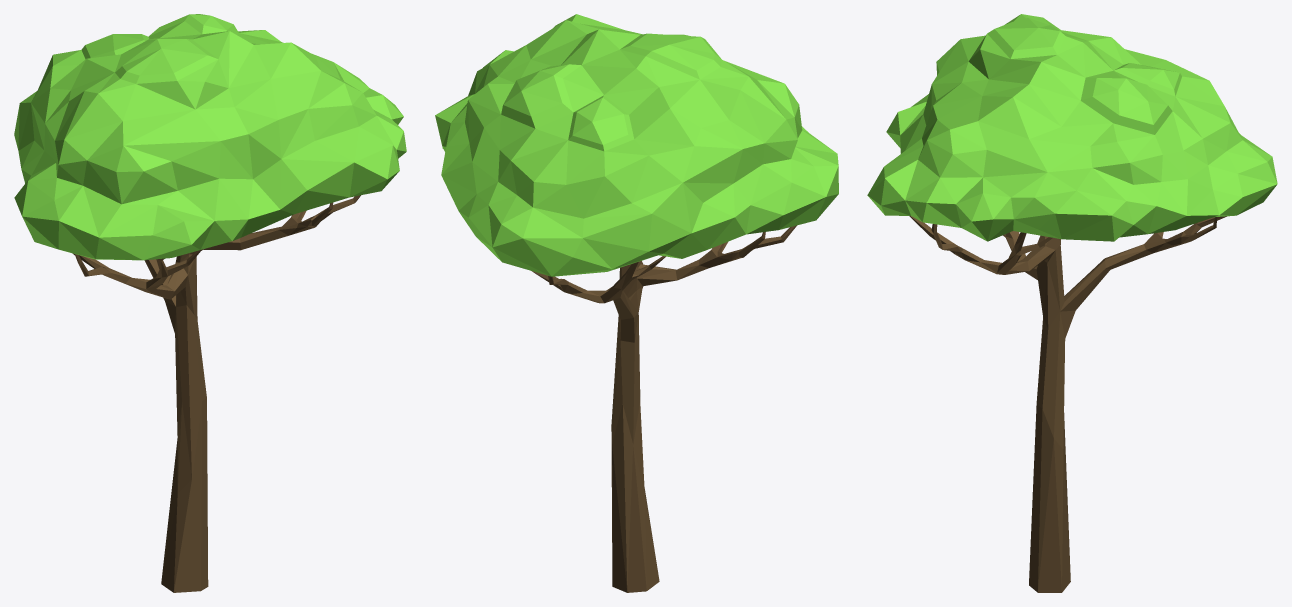
File: OakTree2.fbx
3 renders of one model, left to right at view 1: azimuth 30°, elevation 25°; view 2: azimuth 150°, elevation 25°; view 3: azimuth 270°, elevation 25°, orthographic.
Visible parts, largest first — view 1: OakTree2_LOD0; view 2: OakTree2_LOD0; view 3: OakTree2_LOD0.
Part boxes in pixels (x1=…): OakTree2_LOD0: x1=14, y1=14, x2=406, y2=592; OakTree2_LOD0: x1=435, y1=14, x2=838, y2=592; OakTree2_LOD0: x1=867, y1=14, x2=1277, y2=592.
Size of what is drawn, in the model's own units: 833 by 1216 by 833.
